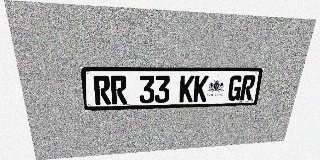3: (154, 75, 170, 103), (139, 76, 155, 103)
G: (227, 75, 243, 101)
K: (179, 75, 195, 102), (193, 75, 209, 102)
R: (93, 76, 111, 105), (110, 76, 127, 104), (240, 75, 256, 100)
